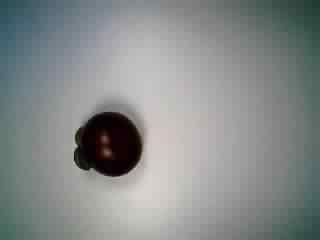mangosteen: (68, 108, 156, 186)
